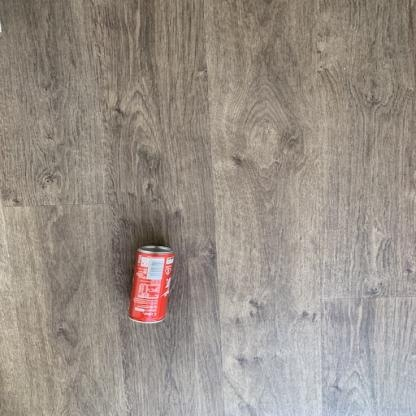trash: (129, 245, 174, 322)
